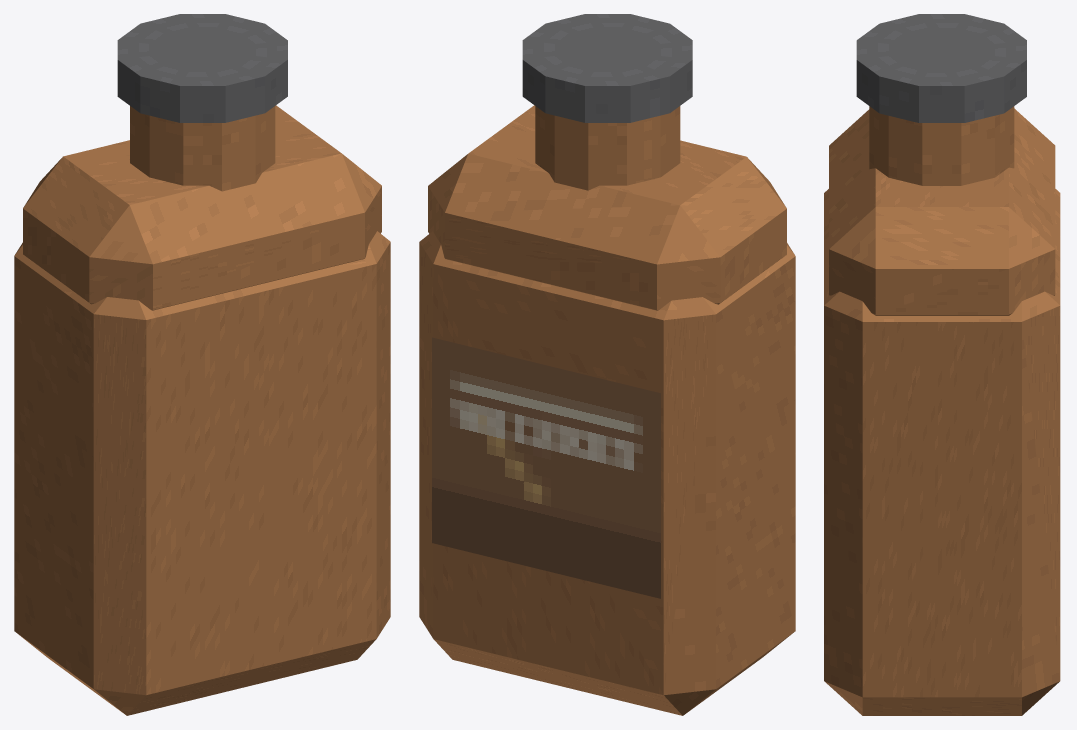
The model's file is whiskey.glb.
3 views of the same model, side by side, from view 1: azimuth 30°, elevation 25°; view 2: azimuth 150°, elevation 25°; view 3: azimuth 270°, elevation 25° (orthographic).
Parts seen in each view (by area): view 1: block_rectangular glass bottle, block_sloping square shoulders, block_bottle closure, block_short neck; view 2: block_rectangular glass bottle, block_pressed paper label, block_sloping square shoulders, block_bottle closure, block_short neck; view 3: block_rectangular glass bottle, block_sloping square shoulders, block_bottle closure, block_short neck.
Boxes of the visible parts, x1,y1,x2,y2 form: block_rectangular glass bottle: (14,231,390,715); block_sloping square shoulders: (23,105,381,310); block_bottle closure: (117,14,287,122); block_short neck: (130,106,275,191); block_rectangular glass bottle: (419,231,795,715); block_pressed paper label: (432,337,660,598); block_sloping square shoulders: (428,105,786,310); block_bottle closure: (522,14,692,122); block_short neck: (535,106,680,190); block_rectangular glass bottle: (824,189,1060,715); block_sloping square shoulders: (829,108,1055,315); block_bottle closure: (856,14,1026,122); block_short neck: (869,106,1014,185).
Bounding box in the file's own units: 0.0829 × 0.1625 × 0.0577.
1 material, 1 textured.
